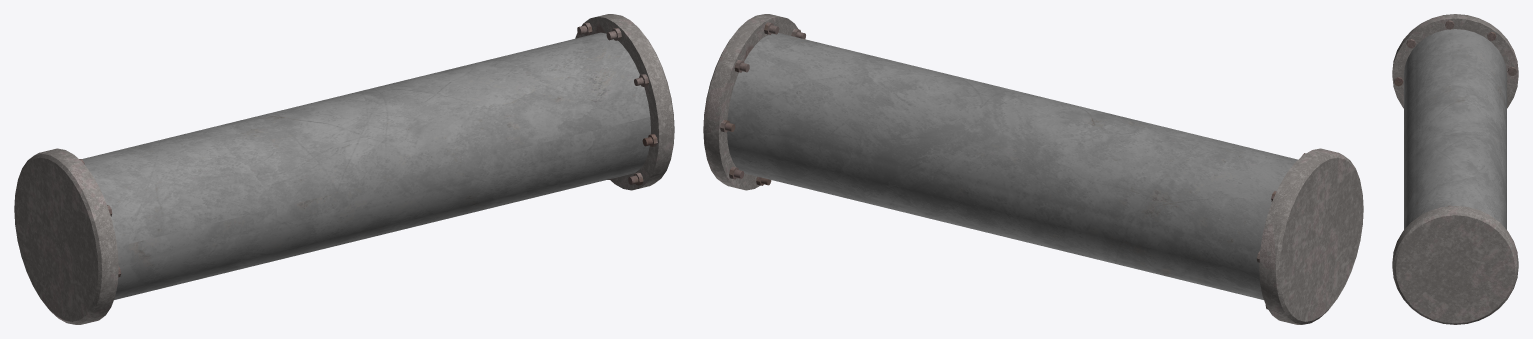
The model's file is cev_dolga.obj.
3 renders of one model, left to right at view 1: azimuth 30°, elevation 25°; view 2: azimuth 150°, elevation 25°; view 3: azimuth 270°, elevation 25°, orthographic. The views are drawn at different scales.
Visible parts, largest first — view 1: cev_velika.001_Cylinder.001, cev_velika.002_Cylinder.006; view 2: cev_velika.001_Cylinder.001, cev_velika.002_Cylinder.006; view 3: cev_velika.001_Cylinder.001, cev_velika.002_Cylinder.006.
Boxes of the visible parts, x1,y1,x2,y2 form: cev_velika.001_Cylinder.001: (82,32,650,299); cev_velika.002_Cylinder.006: (14,14,674,324); cev_velika.001_Cylinder.001: (727,33,1297,299); cev_velika.002_Cylinder.006: (703,14,1363,324); cev_velika.001_Cylinder.001: (1404,29,1506,229); cev_velika.002_Cylinder.006: (1392,14,1518,324).
Size of the model in its own units: 0.7035 by 0.1881 by 0.1881.
2 materials, 2 textured.
